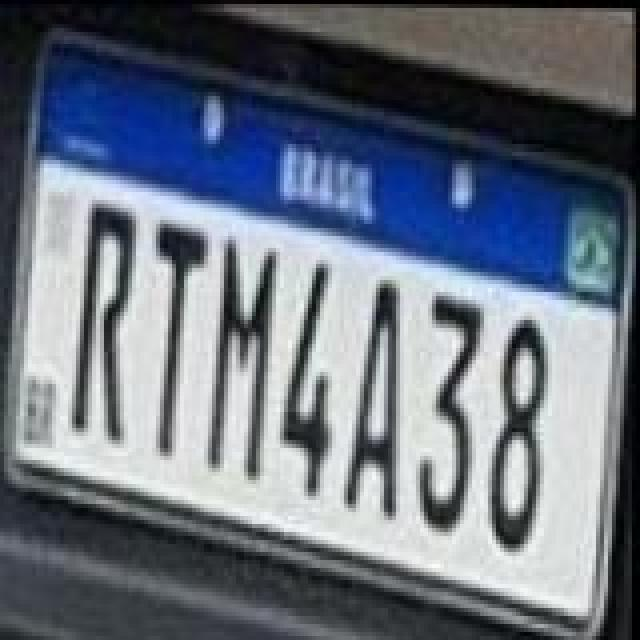3: (418, 290, 490, 534)
4: (278, 260, 338, 500)
8: (488, 316, 556, 552)
A: (342, 278, 406, 522)
M: (204, 238, 284, 482)
R: (68, 204, 140, 448)
T: (150, 220, 210, 460)
